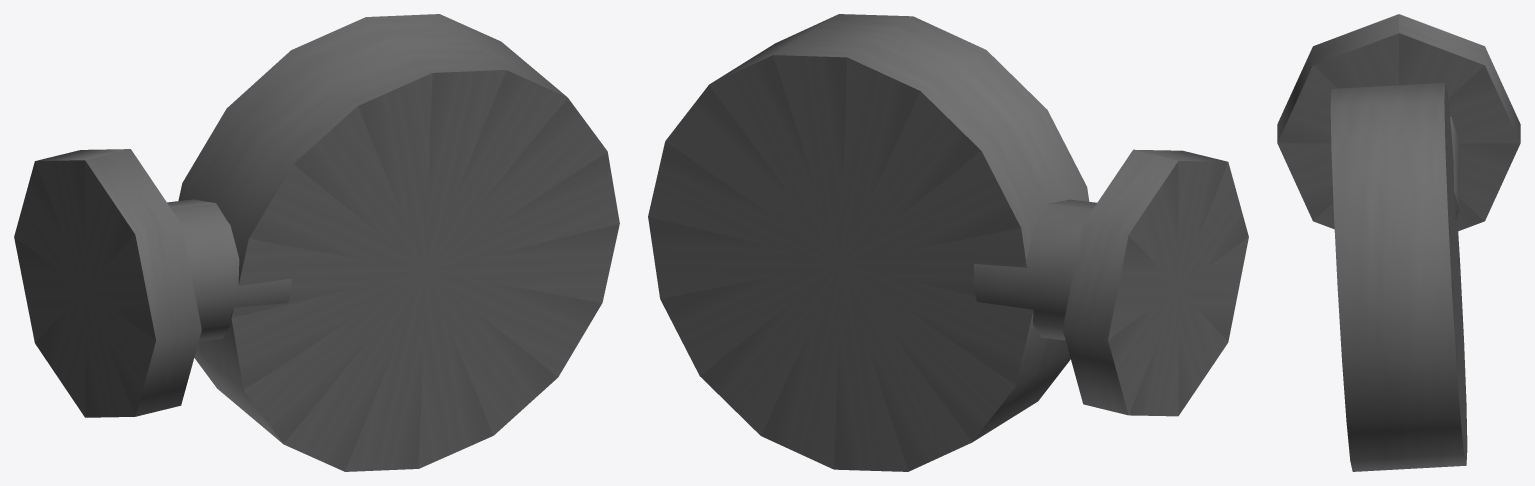
The model's file is mastarmcurve_10x2_c10_west.obj.
3 views of the same model, side by side, from view 1: azimuth 30°, elevation 25°; view 2: azimuth 150°, elevation 25°; view 3: azimuth 270°, elevation 25° (orthographic). The views are drawn at different scales.
Parts seen in each view (by area): view 1: mastarm_10x2_c10_west; view 2: mastarm_10x2_c10_west; view 3: mastarm_10x2_c10_west.
Boxes of the visible parts, x1,y1,x2,y2 form: mastarm_10x2_c10_west: (14,14,619,471); mastarm_10x2_c10_west: (648,14,1248,471); mastarm_10x2_c10_west: (1277,14,1520,471).
Bounding box in the file's own units: 0.815 × 0.6413 × 0.4.
